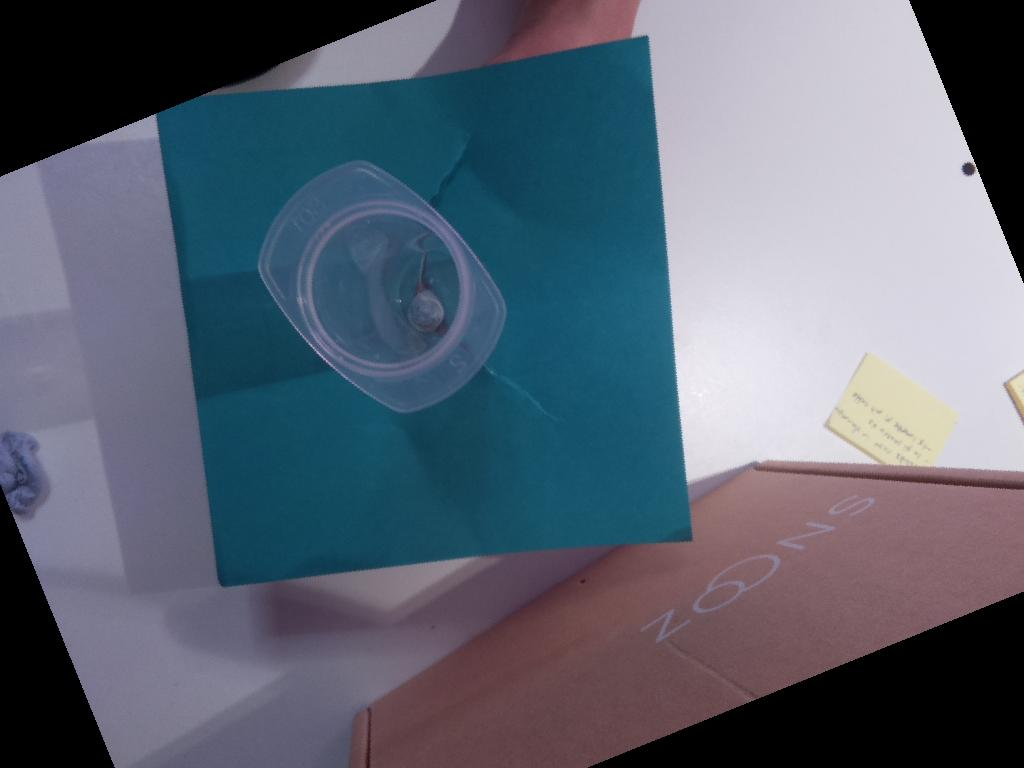clean: (256, 159, 508, 414)
